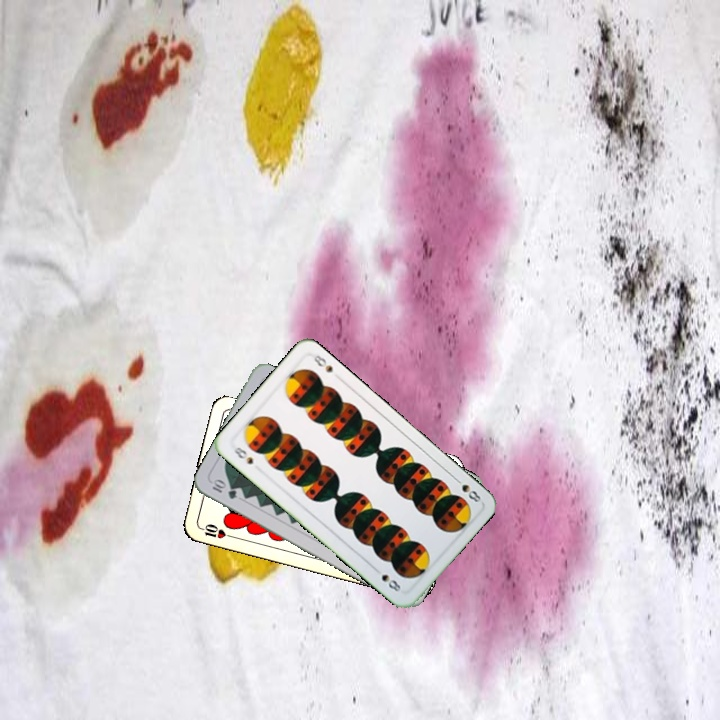G10: (208, 476, 240, 502)
H10: (195, 520, 235, 541)
S8: (450, 473, 483, 505), (229, 443, 256, 467)
